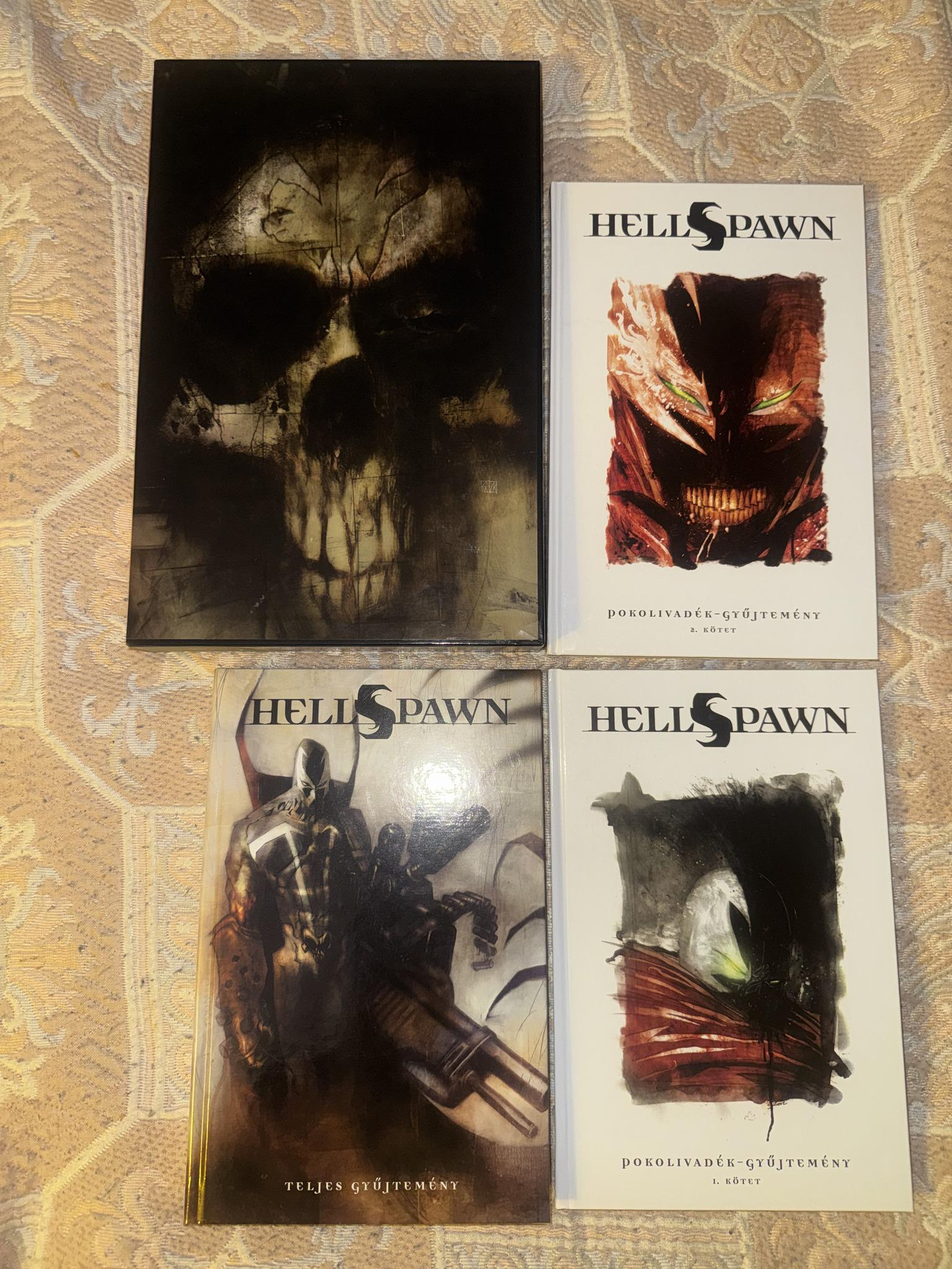comic: (128, 59, 543, 644), (186, 668, 552, 1224), (550, 667, 911, 1213), (549, 183, 880, 658)
